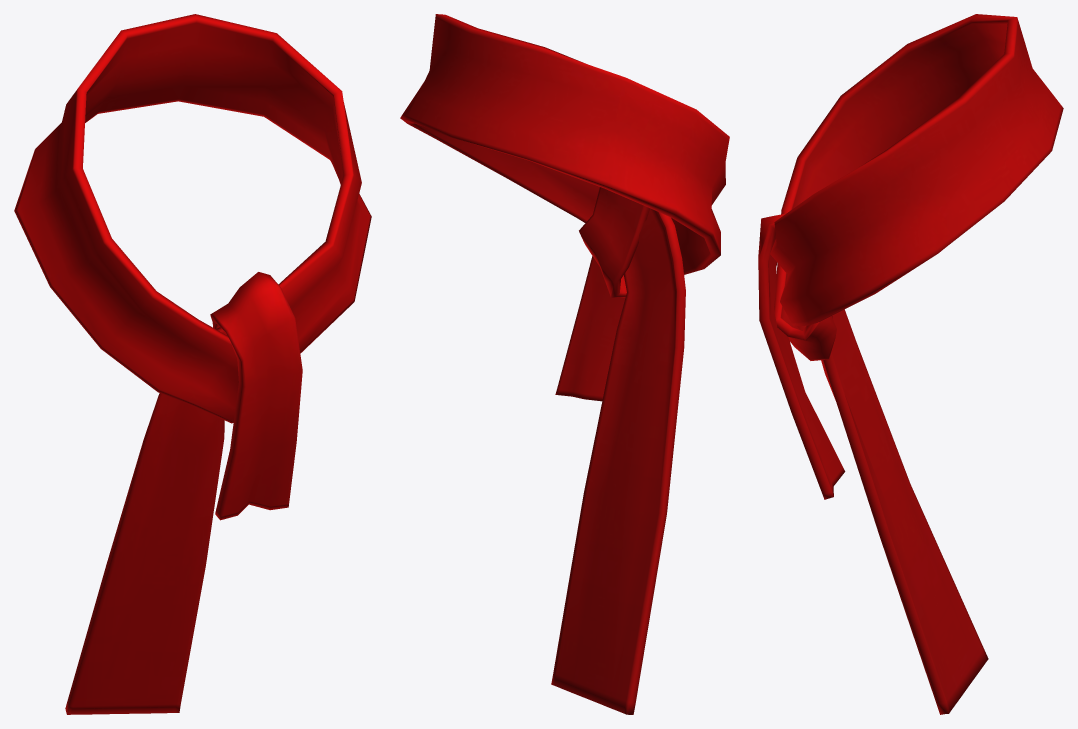
Rendered from scarf.gltf.
3 renders of one model, left to right at view 1: azimuth 30°, elevation 25°; view 2: azimuth 150°, elevation 25°; view 3: azimuth 270°, elevation 25°, orthographic. The views are drawn at different scales.
Visible parts, largest first — view 1: Scarf_Scarf_0_5; view 2: Scarf_Scarf_0_5; view 3: Scarf_Scarf_0_5.
Boxes of the visible parts, bbox=[...] form: Scarf_Scarf_0_5: bbox=[14, 14, 371, 714]; Scarf_Scarf_0_5: bbox=[400, 14, 729, 714]; Scarf_Scarf_0_5: bbox=[758, 14, 1063, 714].
Bounding box in the file's own units: 71.77 × 151 × 60.88.
1 material, 1 textured.
